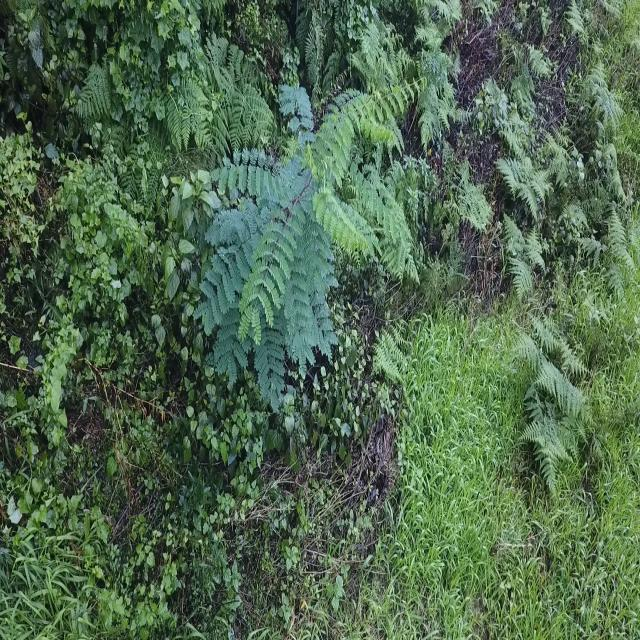Mysore-Thorn-Weed: (202, 97, 382, 409)
